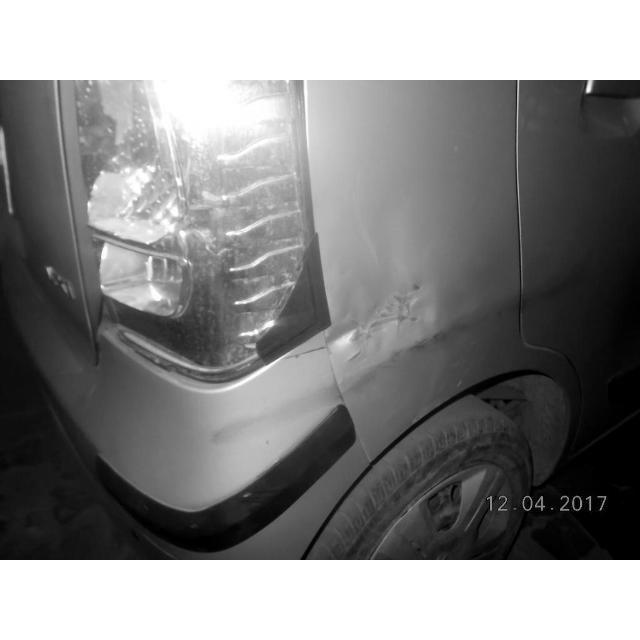quaterpanel-dent: (310, 118, 556, 552)
